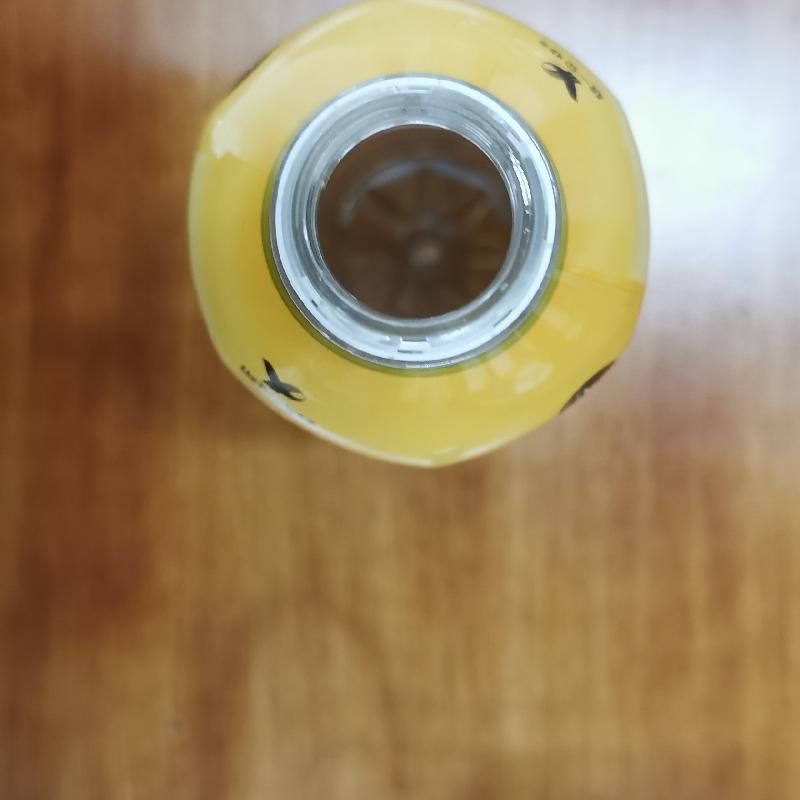bottles: (181, 3, 659, 478)
